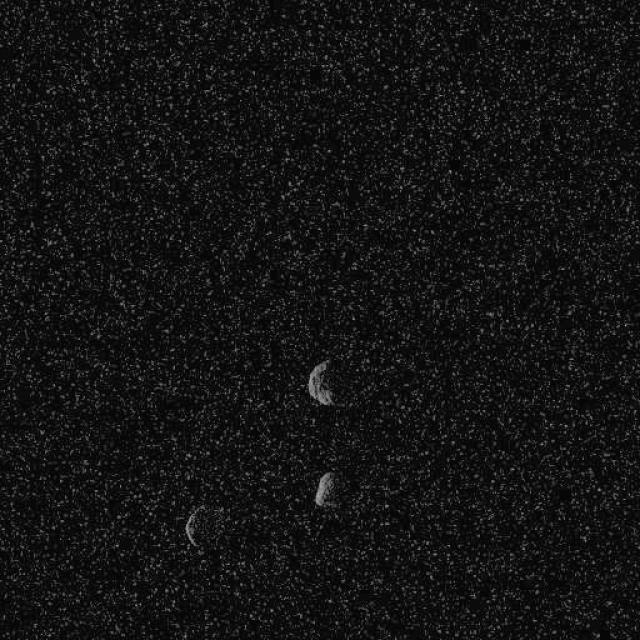D2: (306, 358, 336, 407), (184, 504, 208, 548), (314, 470, 336, 508)
